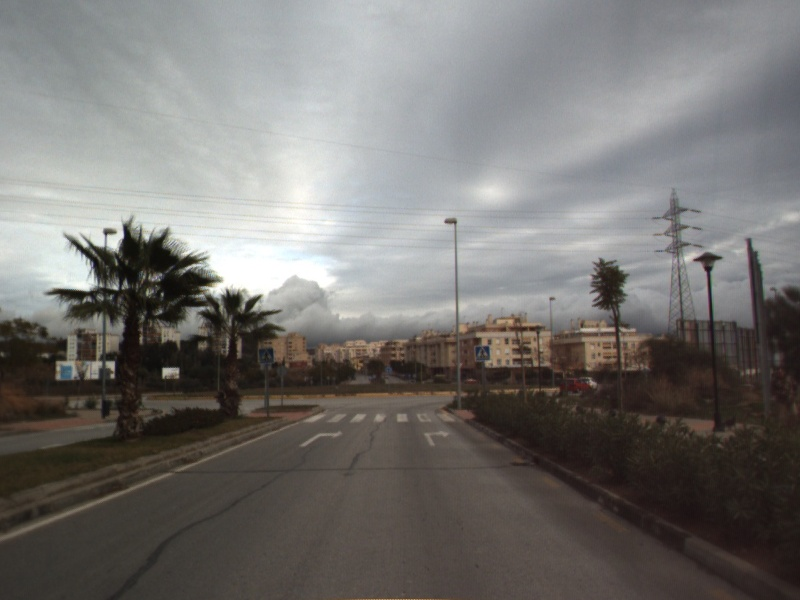RIGHT: (298, 428, 345, 449), (422, 428, 451, 448)
